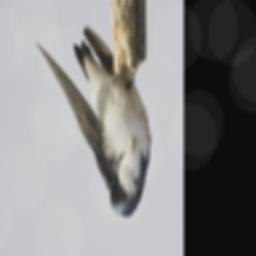Swallow: (36, 25, 153, 220)
